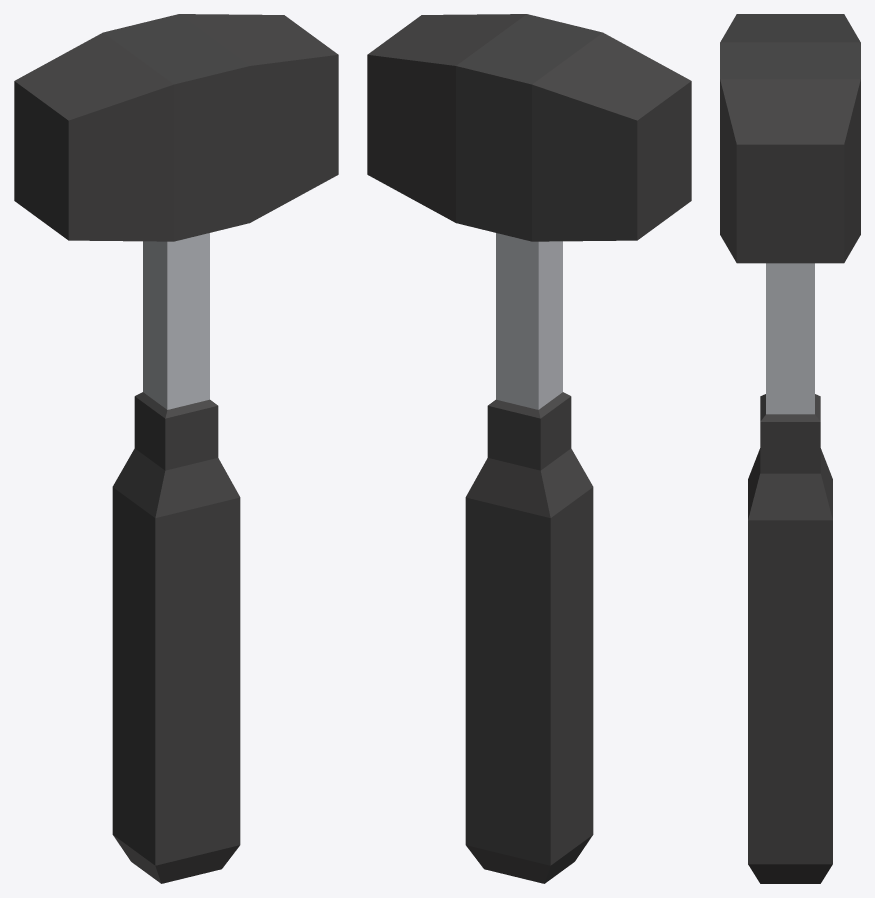
Rendered from SM_Item_Mallet_02.fbx.
The picture shows the model from 3 angles, left to right: view 1: azimuth 30°, elevation 25°; view 2: azimuth 150°, elevation 25°; view 3: azimuth 270°, elevation 25°; orthographic projection.
Parts seen in each view (by area): view 1: SM_Item_Mallet_02; view 2: SM_Item_Mallet_02; view 3: SM_Item_Mallet_02.
Part boxes in pixels (x1,y1,x2,y2): SM_Item_Mallet_02: (14,14,338,883); SM_Item_Mallet_02: (367,14,691,883); SM_Item_Mallet_02: (720,14,860,883).
Bounding box in the file's own units: 17.18 × 49.62 × 7.83.
